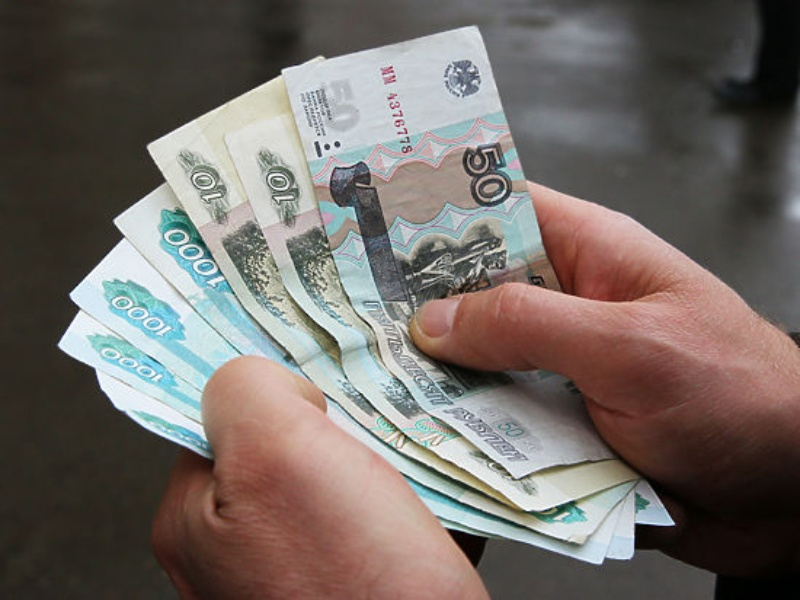cash: (56, 26, 676, 564)
